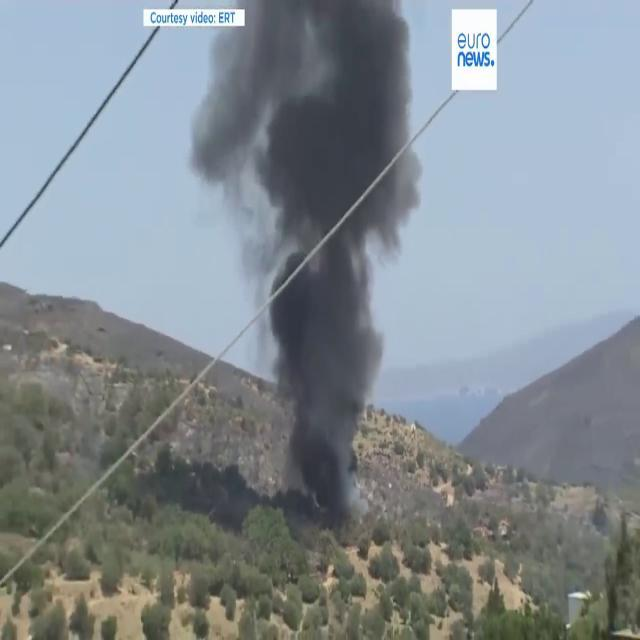Smoke: (188, 1, 429, 503)
